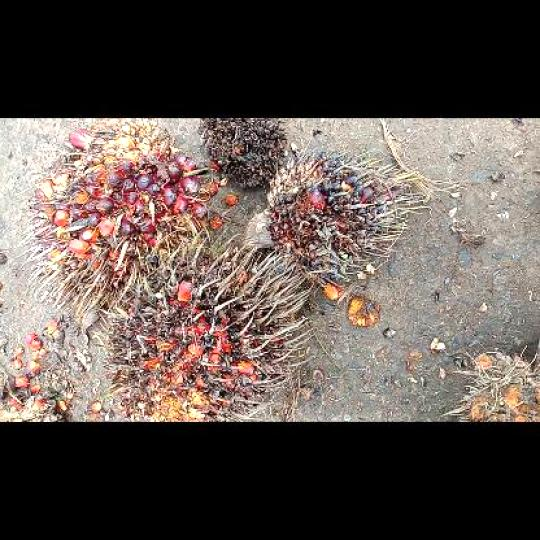masak: (18, 118, 219, 322)
terlalu masak: (101, 229, 317, 420)
